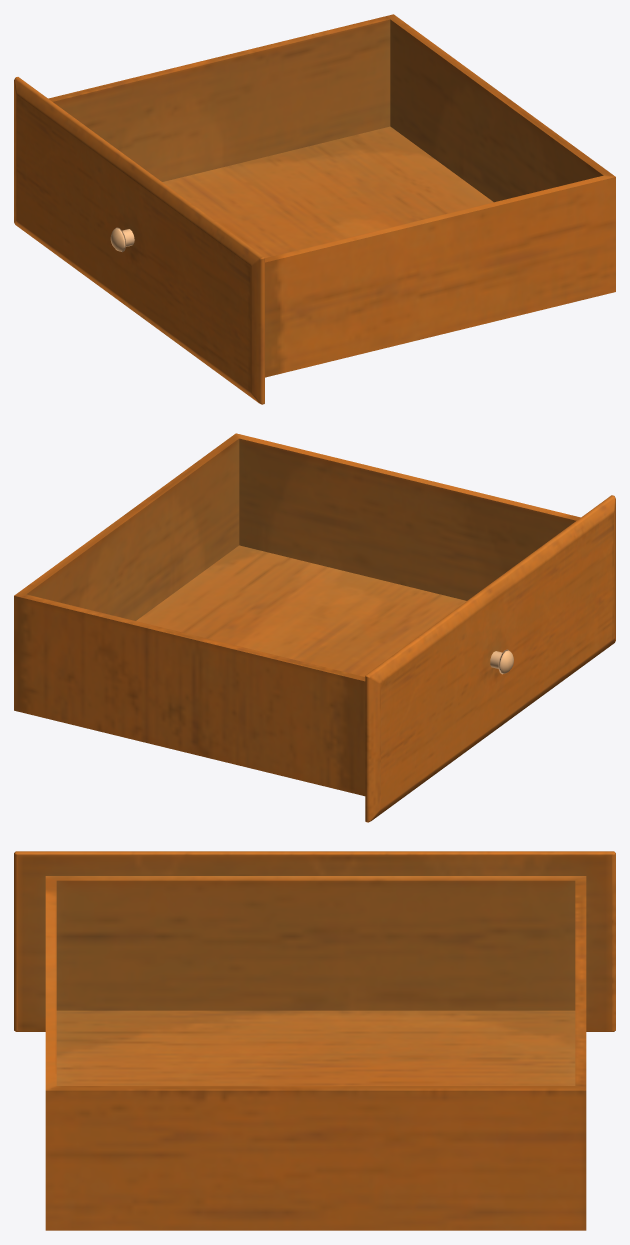
The model's file is SM_Drawer_A1_Cab4.fbx.
The picture shows the model from 3 angles, top to bottom: view 1: azimuth 30°, elevation 25°; view 2: azimuth 150°, elevation 25°; view 3: azimuth 270°, elevation 25°; orthographic projection. The views are drawn at different scales.
Parts seen in each view (by area): view 1: SM_Drawer_A1_Cab4; view 2: SM_Drawer_A1_Cab4; view 3: SM_Drawer_A1_Cab4.
Boxes of the visible parts, bbox=[...] form: SM_Drawer_A1_Cab4: bbox=[14, 14, 615, 404]; SM_Drawer_A1_Cab4: bbox=[14, 433, 615, 822]; SM_Drawer_A1_Cab4: bbox=[14, 851, 615, 1230].
Size of the model in its own units: 49.55 by 54.46 by 17.89.
Materials: 1 (1 with a texture image).
